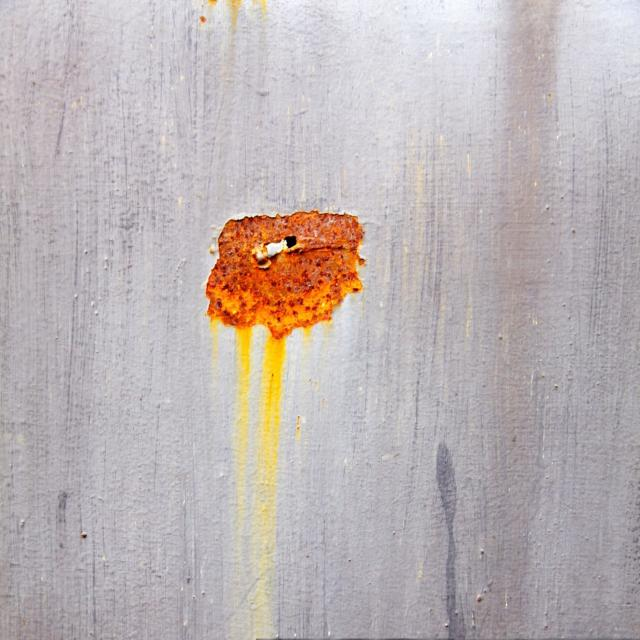Pitting Corrosion: (206, 211, 364, 339)
